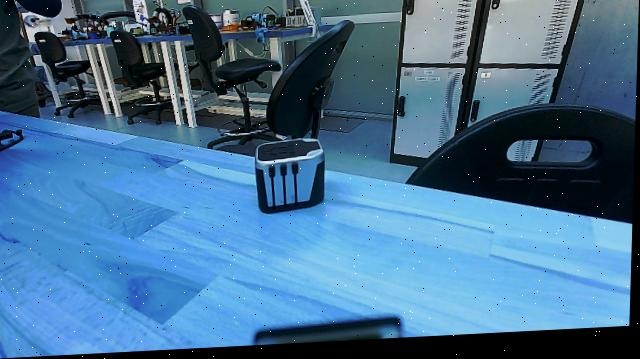adapter: (252, 137, 331, 223)
